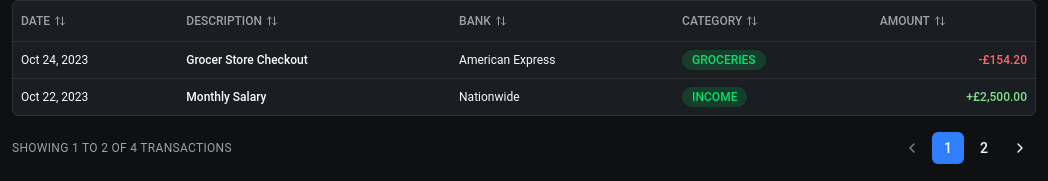
TransactionTable › navigates to specific page when page number is clicked
This screenshot has width=1048, height=181.
What coordinates should you click on to do the following:
click the button "2"
I would click on:
 (984, 148)
Its box is [968,132,1000,164].
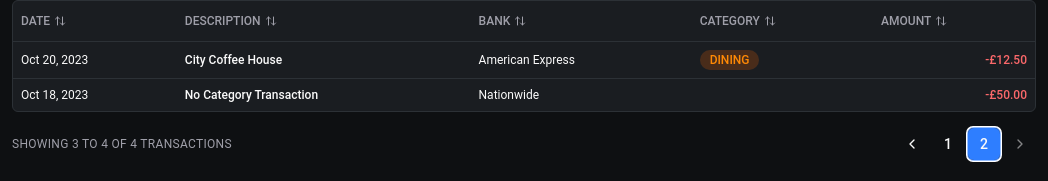
Result: the text "Showing 3 to 4 of 4 transactions" is shown at [12,136,232,152]
